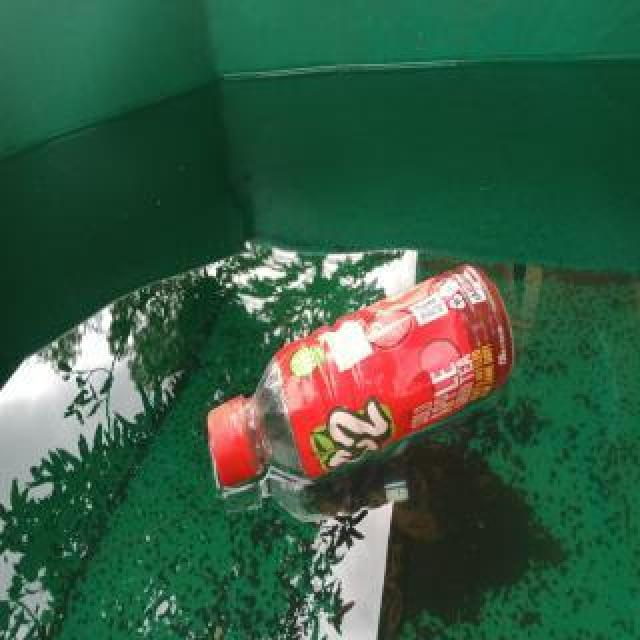bottle: (206, 260, 514, 488)
